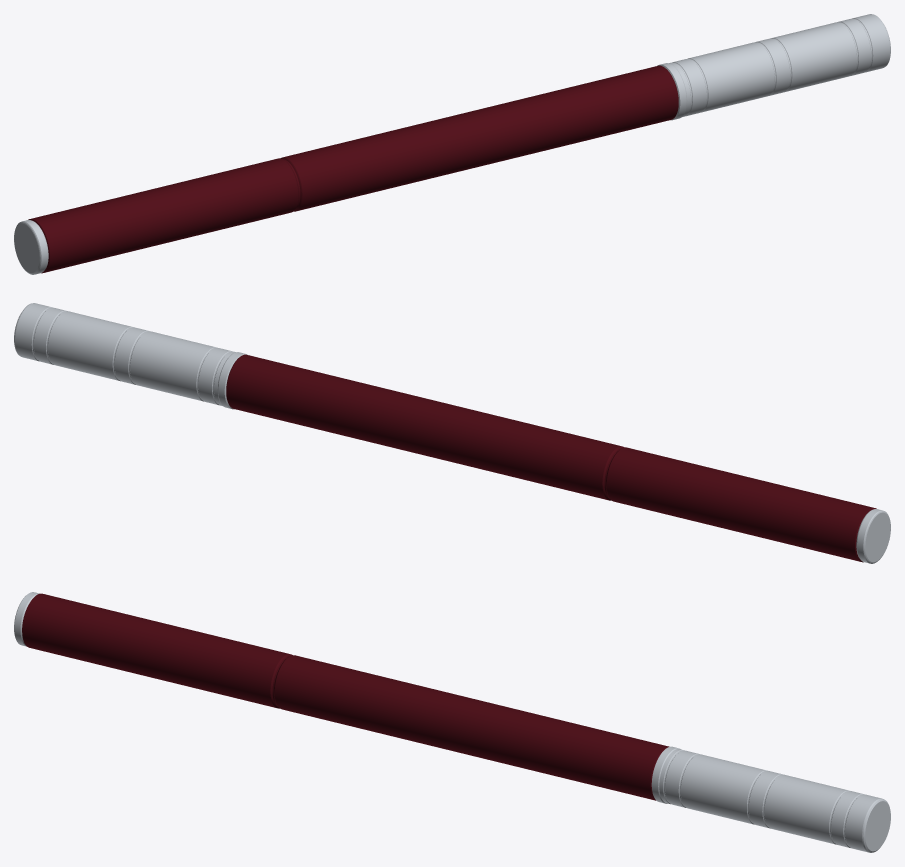
The model's file is billy_club.obj.
3 renders of one model, top to bottom at view 1: azimuth 30°, elevation 25°; view 2: azimuth 150°, elevation 25°; view 3: azimuth 330°, elevation 25°, orthographic.
Parts seen in each view (by area): view 1: BC_Export; view 2: BC_Export; view 3: BC_Export.
Boxes of the visible parts, <box> form: BC_Export: <box>14,14,890,274</box>; BC_Export: <box>14,303,890,563</box>; BC_Export: <box>14,592,890,852</box>.
Bounding box in the file's own units: 0.6 × 0.0348 × 0.0348.
1 material, 1 textured.
